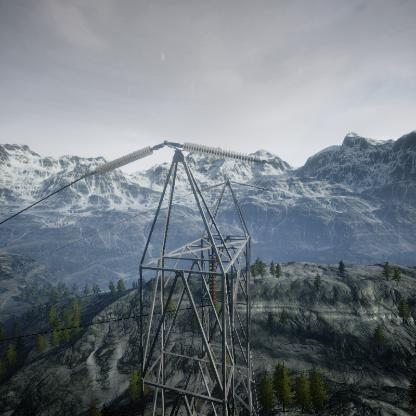insulator: (179, 136, 271, 165), (93, 146, 155, 176), (209, 255, 218, 307)
